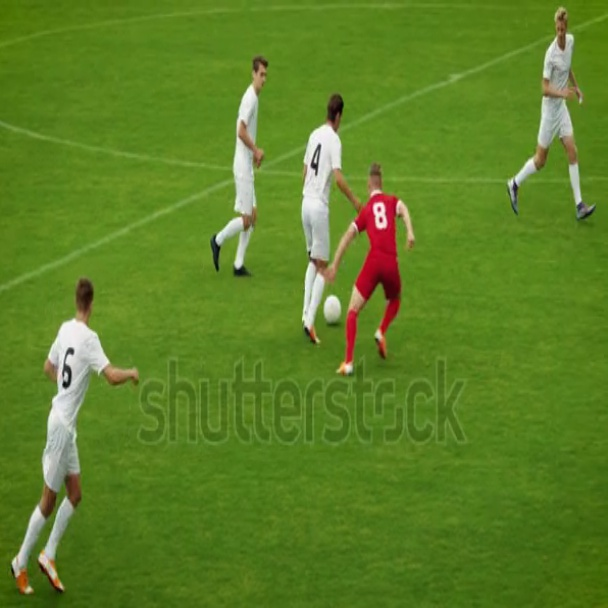ball: (326, 292, 342, 327)
